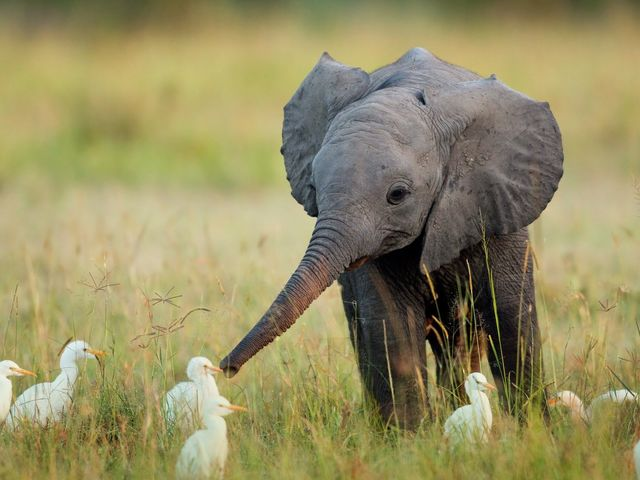elephant: (209, 30, 571, 435)
